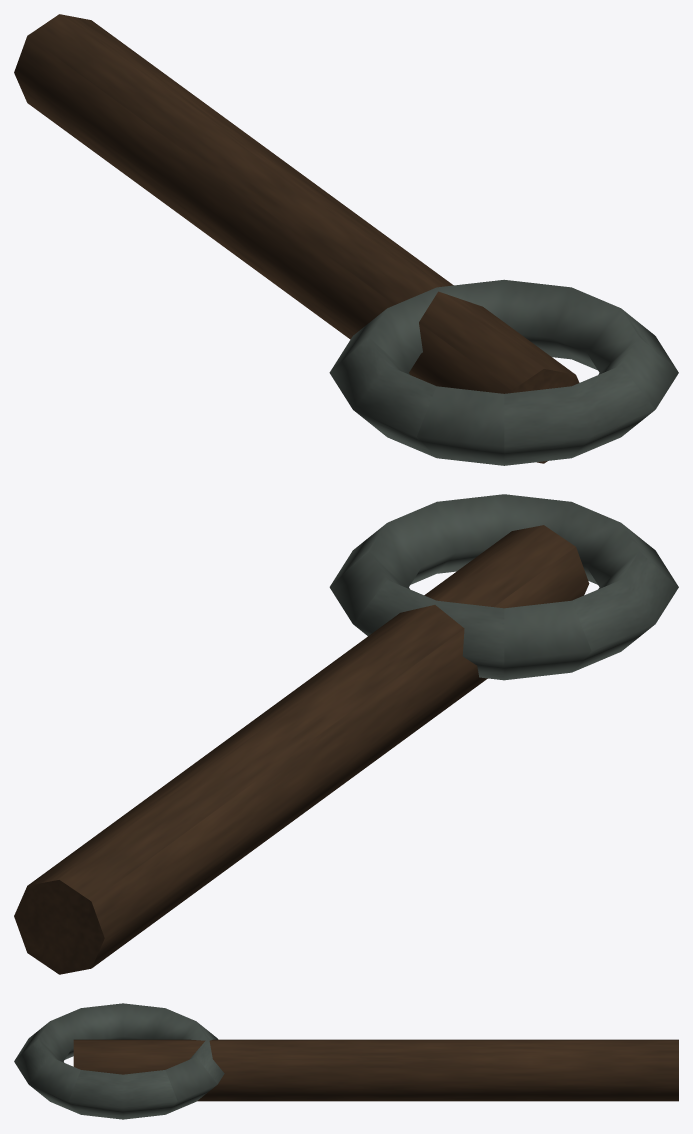
Rendered from item-OldWorldPipe.fbx.
3 renders of one model, top to bottom at view 1: azimuth 30°, elevation 25°; view 2: azimuth 150°, elevation 25°; view 3: azimuth 270°, elevation 25°, orthographic. The views are drawn at different scales.
Parts seen in each view (by area): view 1: item-OldWorldPipe__Geometry; view 2: item-OldWorldPipe__Geometry; view 3: item-OldWorldPipe__Geometry.
Boxes of the visible parts, x1=… form: item-OldWorldPipe__Geometry: x1=14, y1=14, x2=678, y2=465; item-OldWorldPipe__Geometry: x1=14, y1=494, x2=678, y2=974; item-OldWorldPipe__Geometry: x1=14, y1=1003, x2=678, y2=1119.
Size of the model in its own units: 0.22 by 0.068 by 0.67.
1 material, 1 textured.
